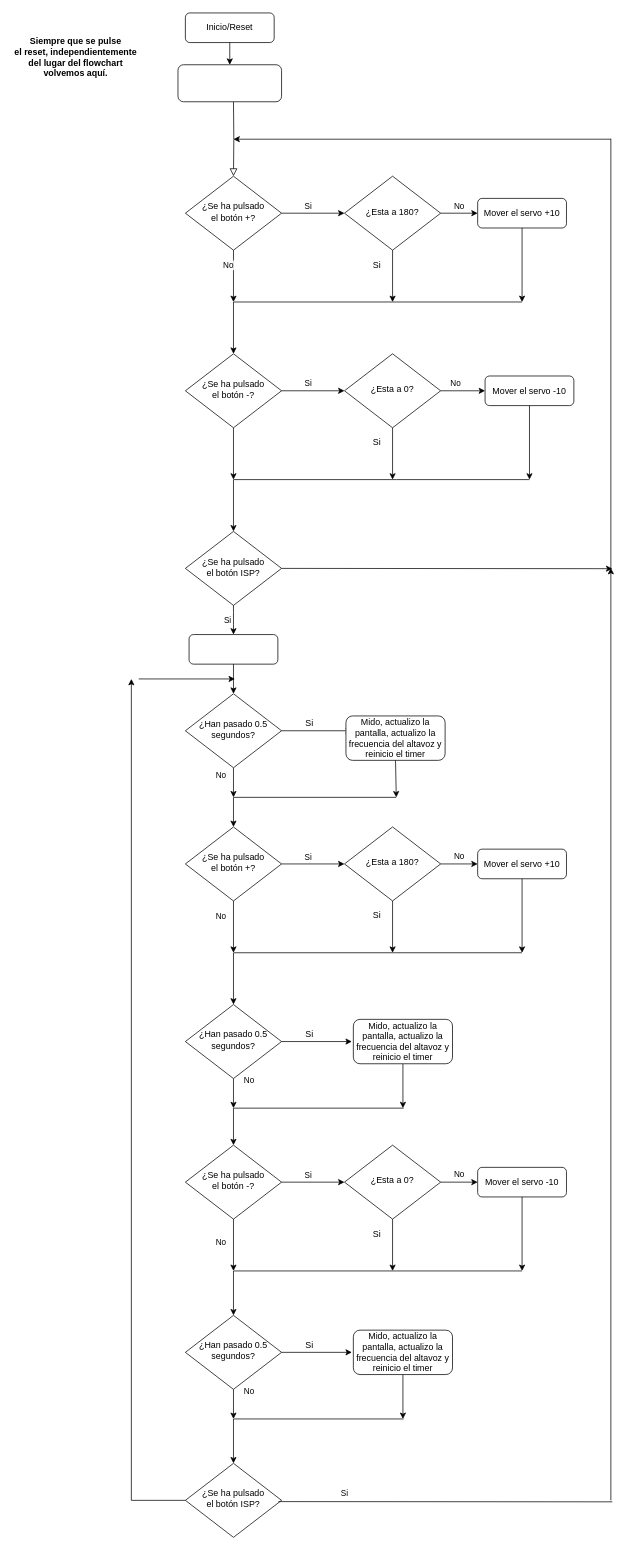
Some shapes in this 631 by 1550 pixel diagram are drawn without their labels. Here are the shapes that lost their labels. From the top down, the box of each, then its label:
(177, 64, 282, 102): Configuración inicial.(Interrupciones, posición inicial)
(188, 634, 278, 664): Inicio el timer
